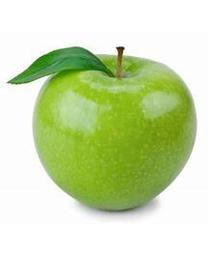apple: (32, 46, 197, 211)
